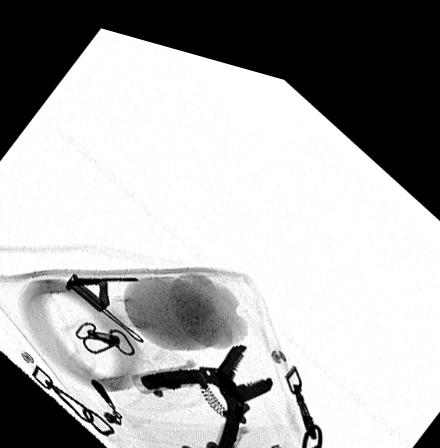Pliers: (140, 331, 274, 448)
